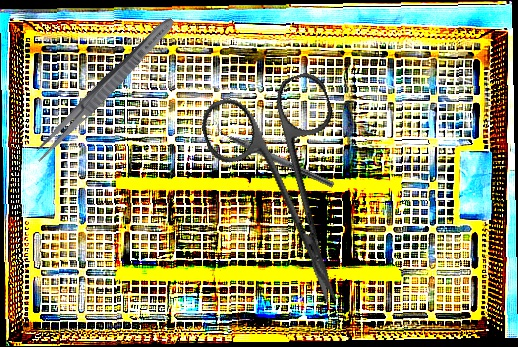Chopper: (207, 118, 340, 189)
Dressing Forceps: (29, 12, 180, 167)
Iris Scissors: (195, 68, 389, 324)
